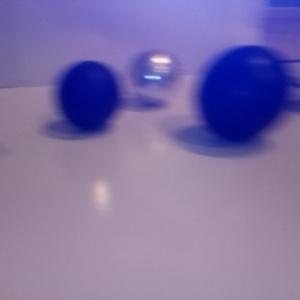alive_ball: (130, 49, 181, 104)
dead_ball: (197, 44, 289, 138), (54, 60, 122, 131)
